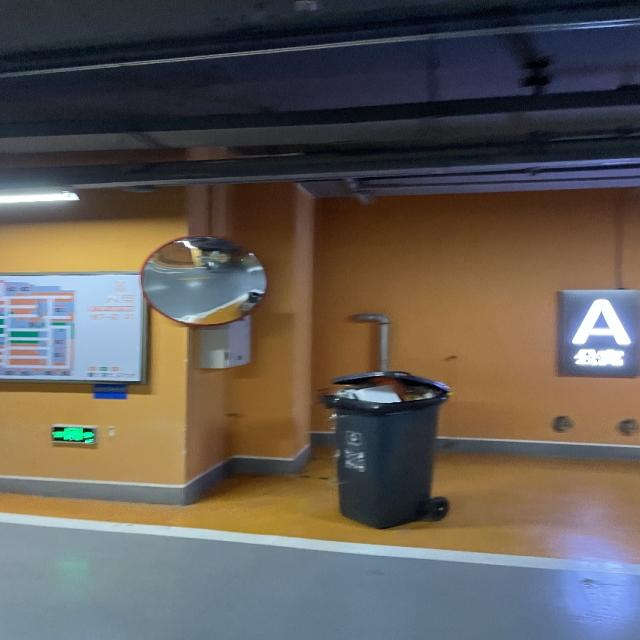overflow: (318, 368, 449, 528)
